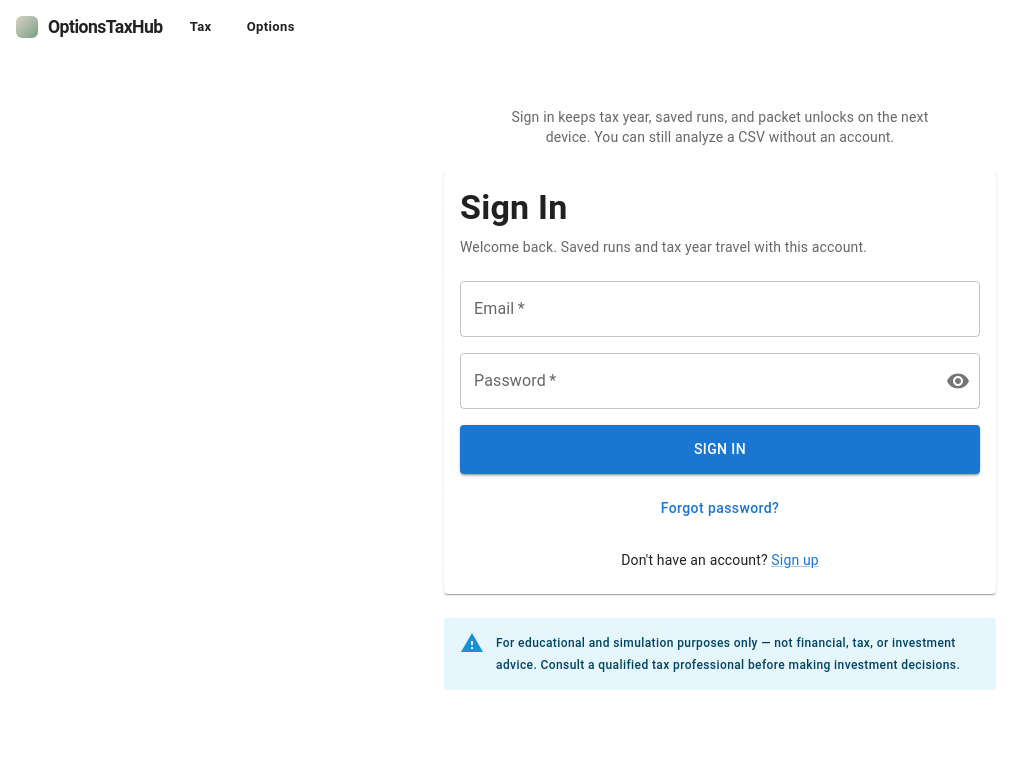
it: Sign In Page › displays error message on sign in failure with Error object
This screenshot has width=1014, height=779.
In the field labelled "Email *": (720, 309) [460,281,980,337], type "bad@example.com"
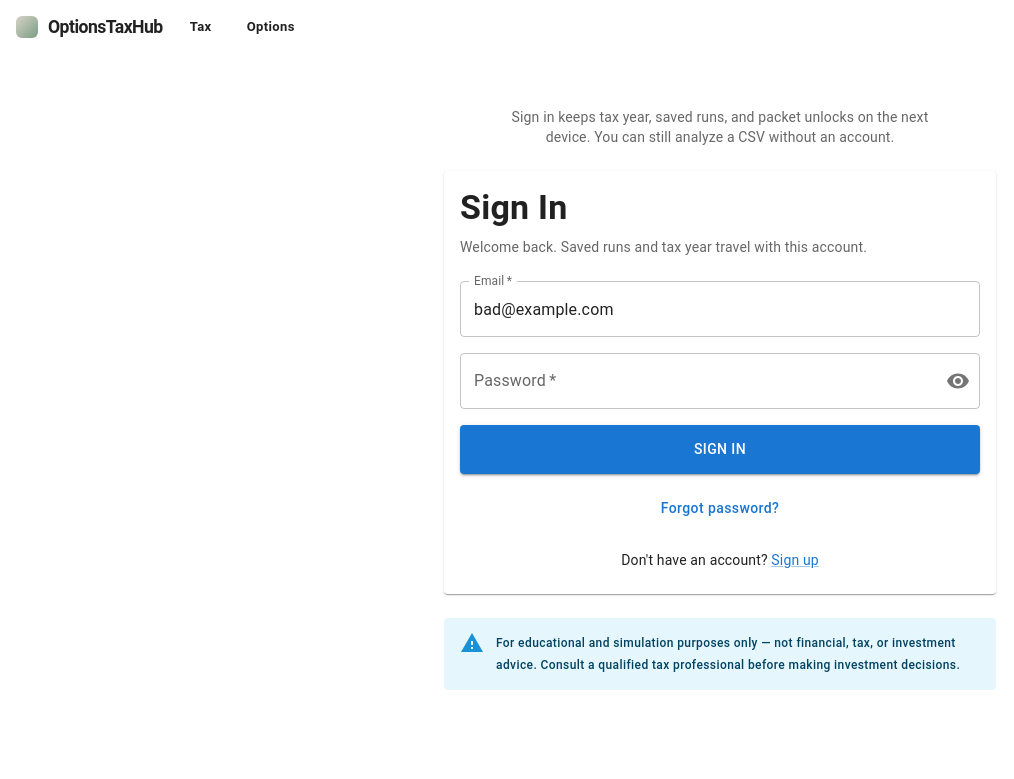
In the password field labelled "Password *": (695, 381) [460,353,930,409], type "wrong"
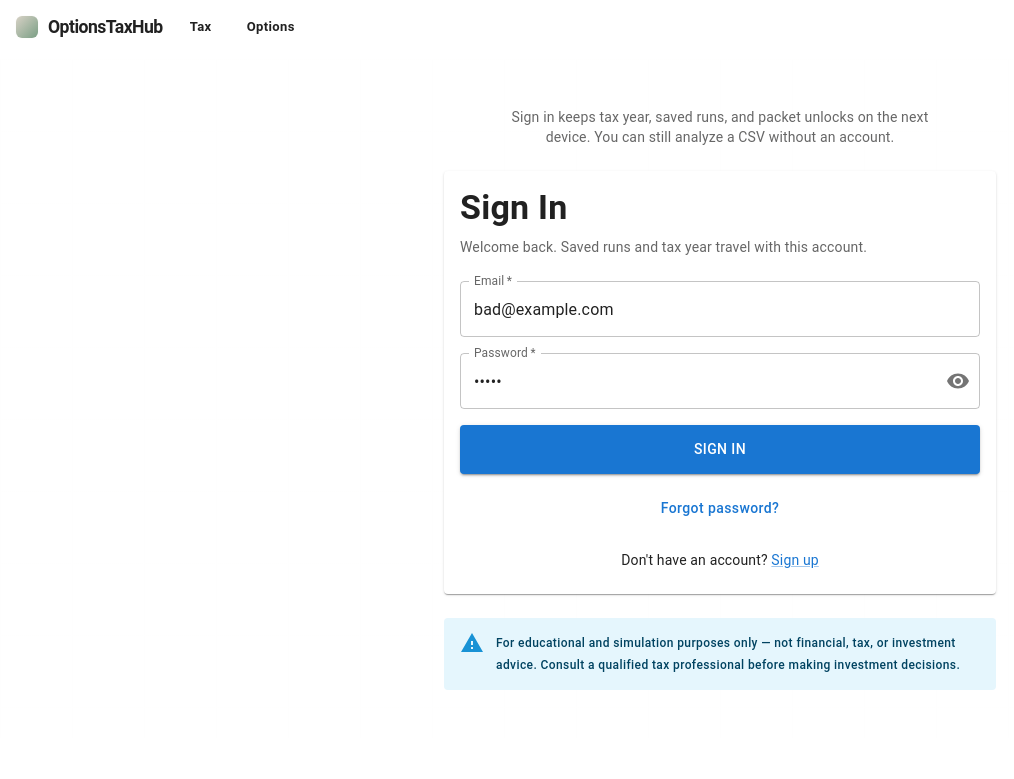
Submit the form, box [460,281,980,526]
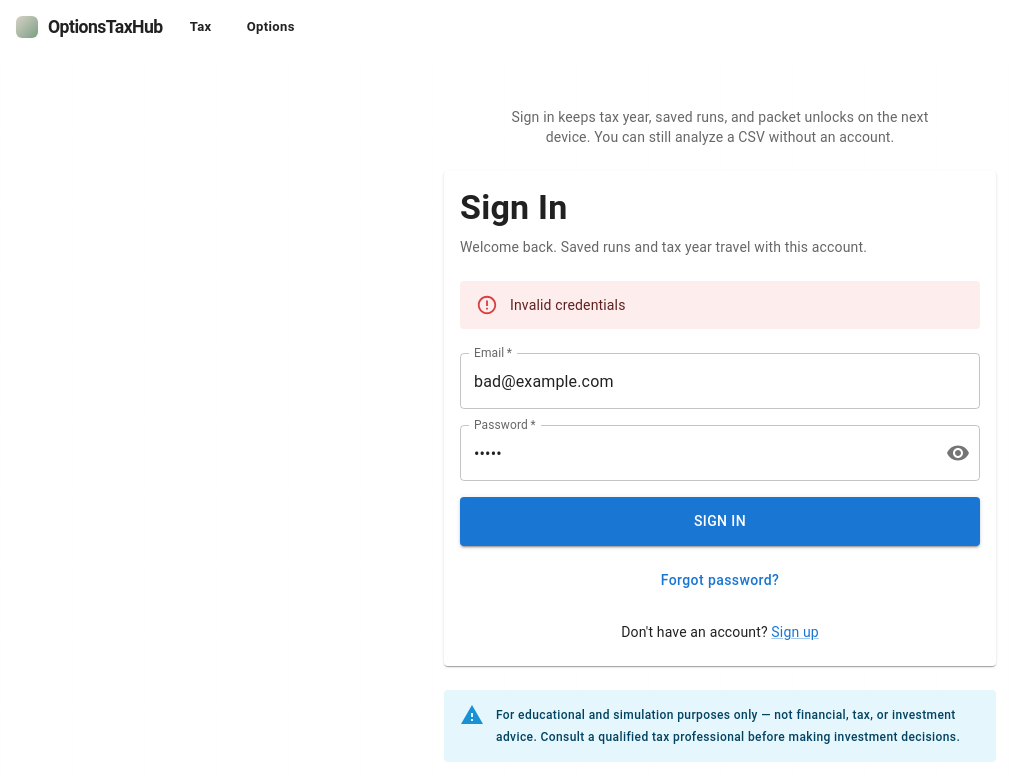
expect the text "Invalid credentials" is shown: met, box [510,297,626,313]
